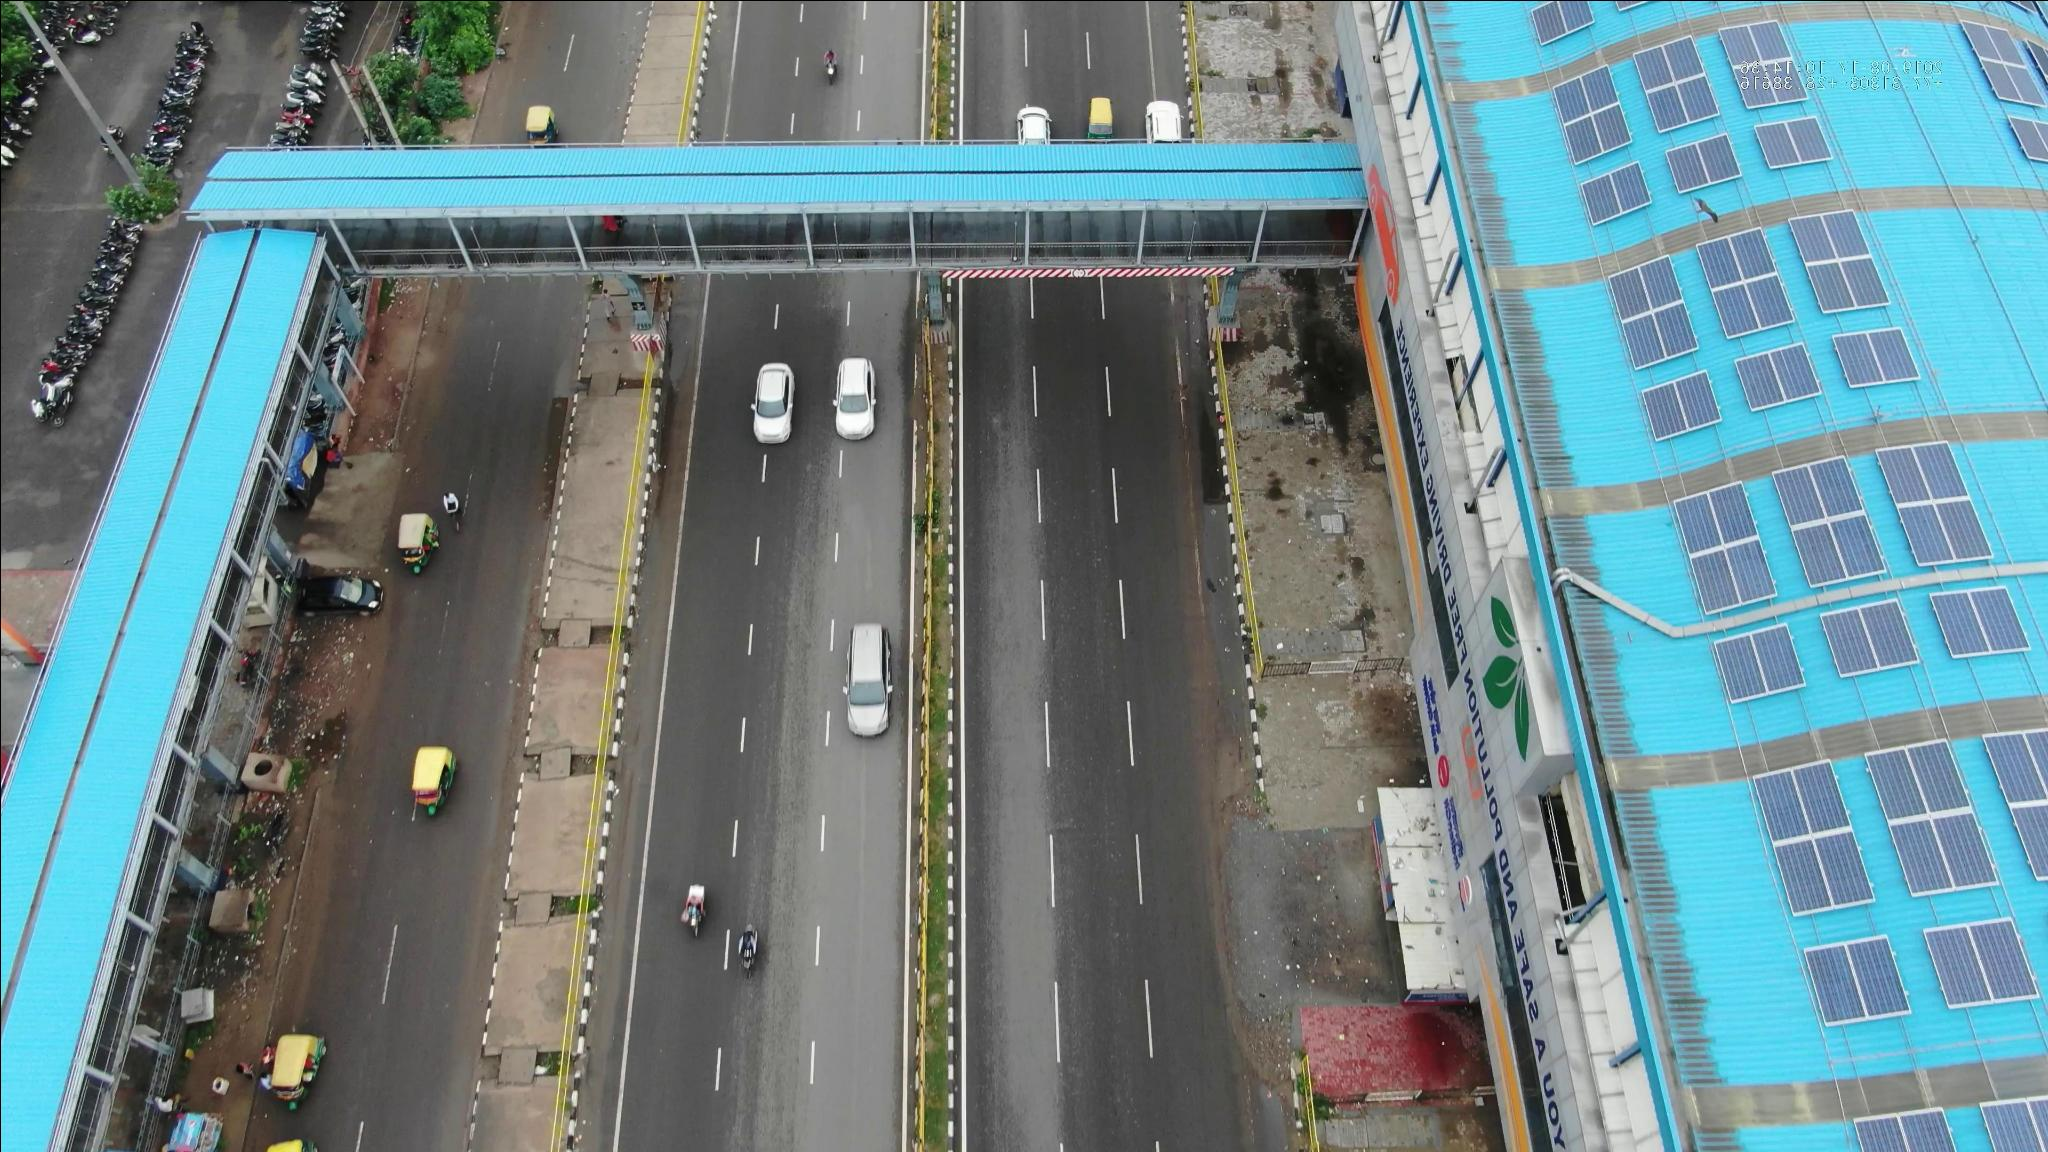Waterlogging: (641, 307, 709, 488), (539, 354, 584, 502)
